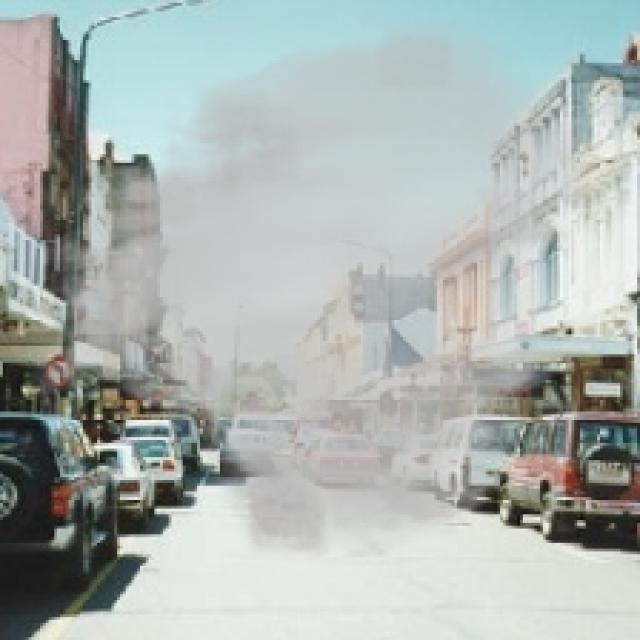Smoke: (28, 17, 594, 566)
